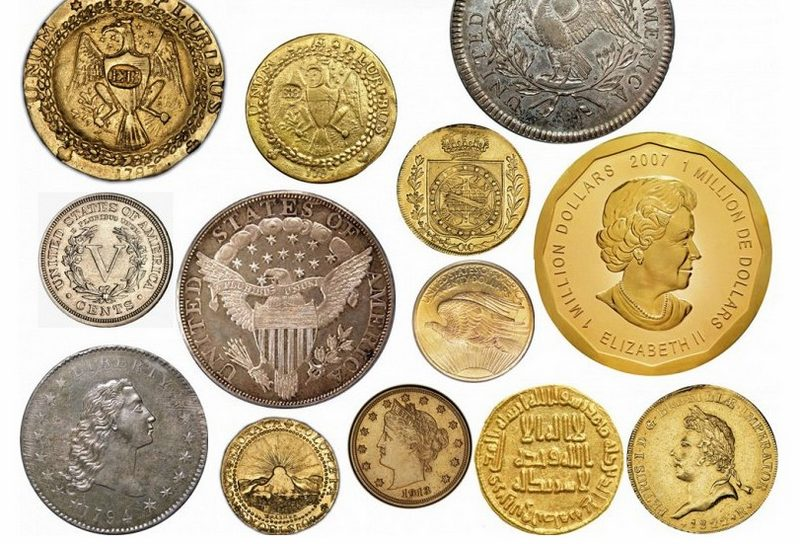coin: (532, 131, 773, 376), (174, 189, 397, 410), (16, 344, 210, 536), (21, 1, 226, 182), (449, 1, 675, 145), (625, 382, 779, 534), (243, 33, 398, 184), (472, 383, 624, 535), (38, 191, 174, 329), (395, 122, 530, 256), (410, 258, 537, 384), (348, 383, 472, 509), (218, 415, 341, 536)
